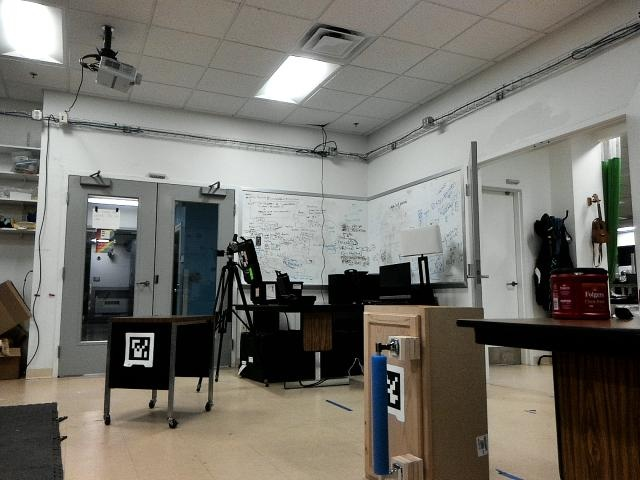noodle_handle: (366, 352, 393, 478)
